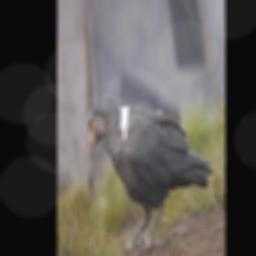Crow: (86, 90, 215, 256)
